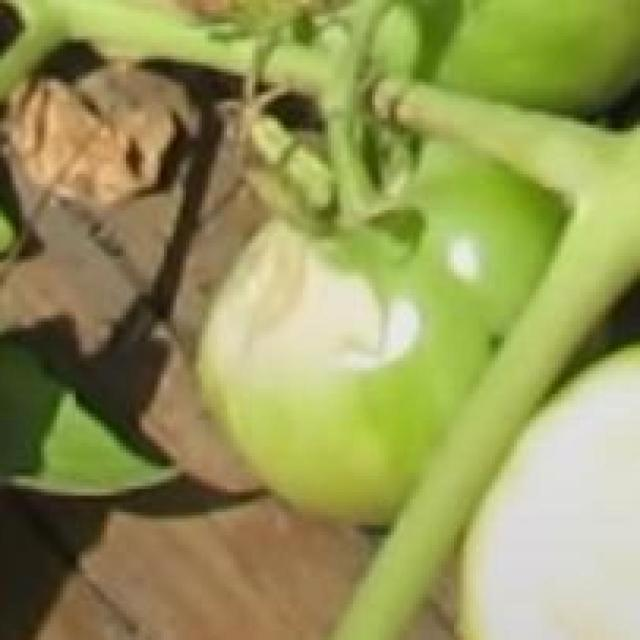Sunscald Fruit: (131, 142, 281, 249)
